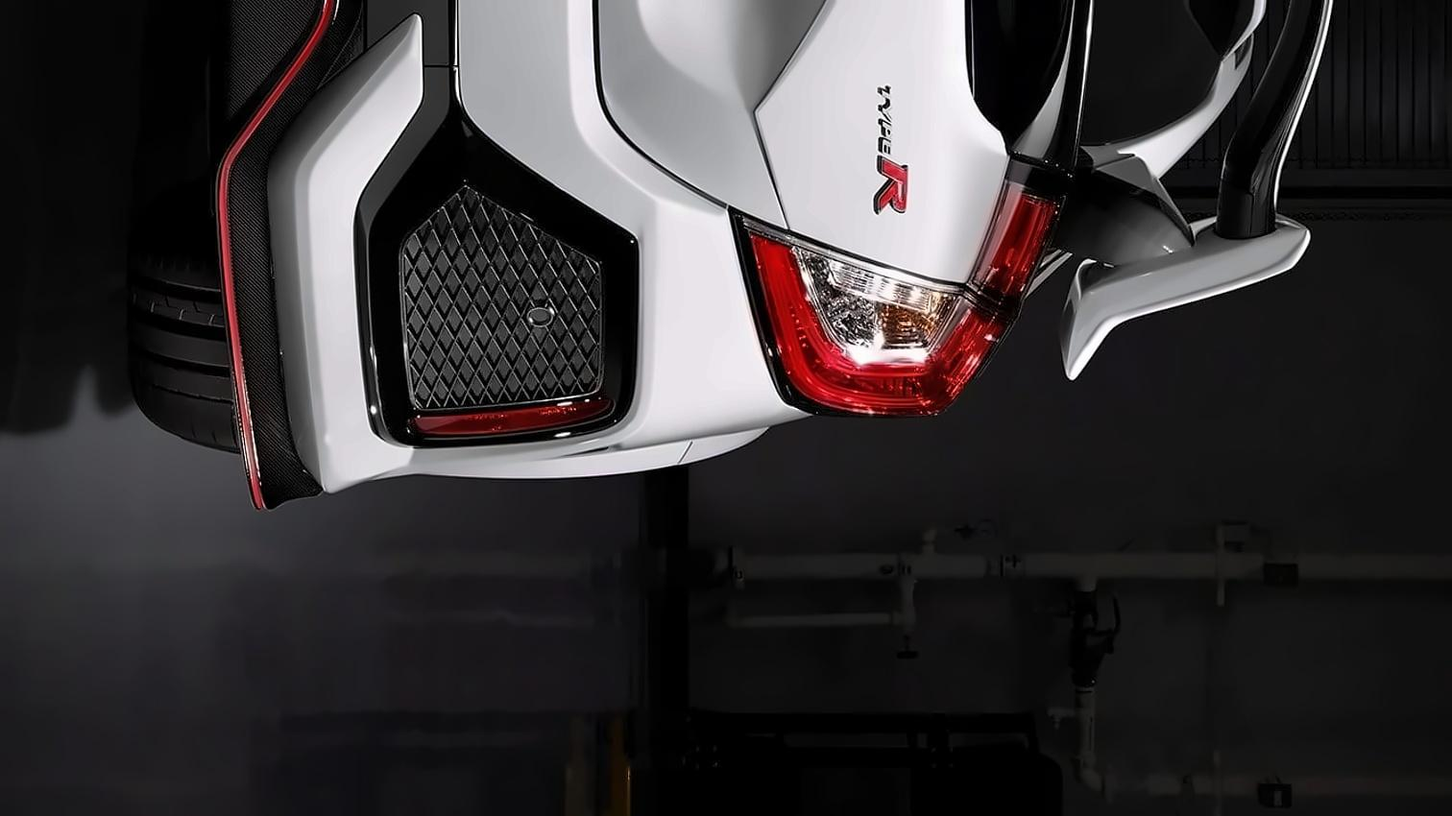Car boot: (583, 0, 1190, 296)
Rear bumper: (195, 0, 807, 513)
Rear light - -R-: (723, 159, 1089, 433)
